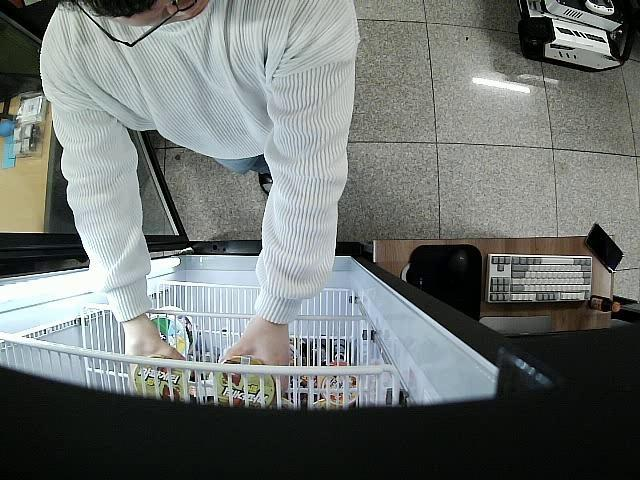04_chapagetti_S: (132, 346, 188, 404), (214, 357, 274, 406)
